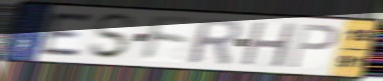E: (38, 11, 96, 57)
F: (141, 13, 199, 63)
H: (239, 19, 300, 69)
P: (285, 22, 340, 70)
R: (187, 17, 243, 65)
S: (87, 13, 140, 61)
